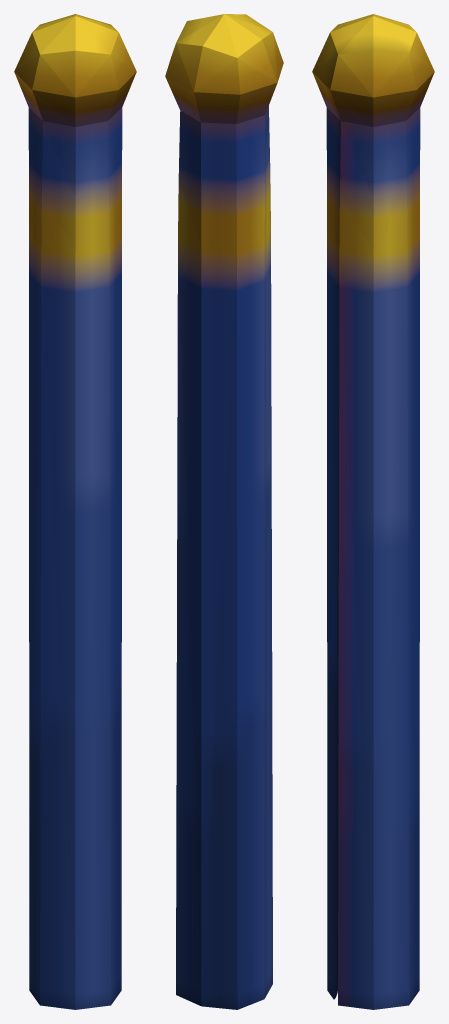
The model's file is ropepole_blue_0420x10.obj.
3 renders of one model, left to right at view 1: azimuth 90°, elevation 25°; view 2: azimuth 150°, elevation 25°; view 3: azimuth 270°, elevation 25°, orthographic.
Visible parts, largest first — view 1: Ropepole_Blue; view 2: Ropepole_Blue; view 3: Ropepole_Blue.
Boxes of the visible parts, x1=… form: Ropepole_Blue: x1=14, y1=14, x2=136, y2=1009; Ropepole_Blue: x1=165, y1=14, x2=283, y2=1009; Ropepole_Blue: x1=312, y1=14, x2=434, y2=1009.
Bounding box in the file's own units: 0.2656 × 2.33 × 0.2656.
